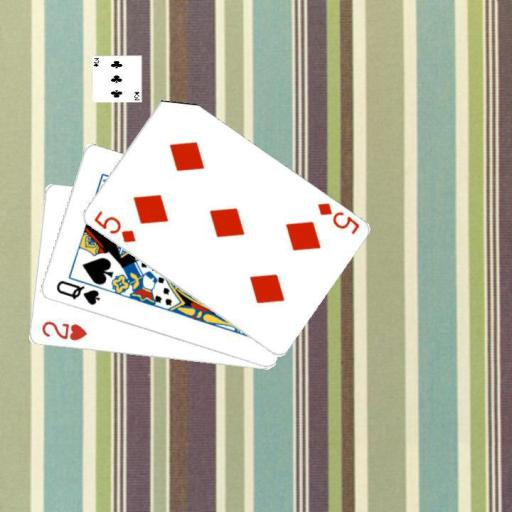2H: (38, 318, 88, 343)
5D: (90, 208, 137, 245), (314, 199, 361, 236)
QS: (53, 278, 101, 307)
